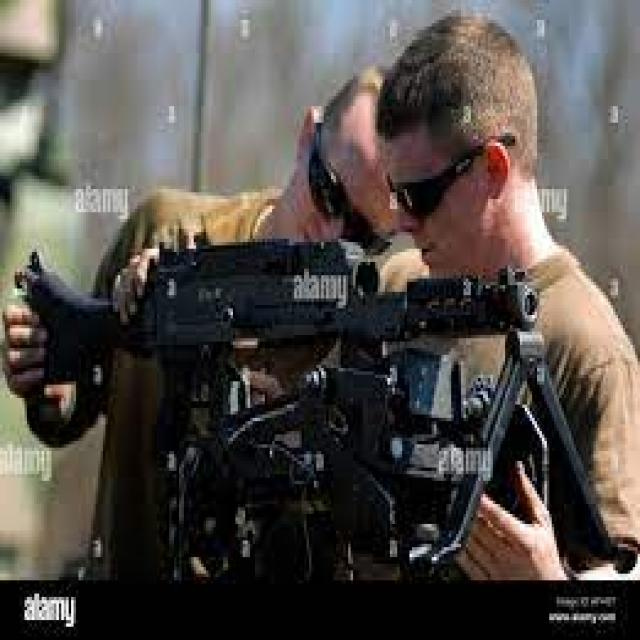Gun: (23, 234, 540, 429)
